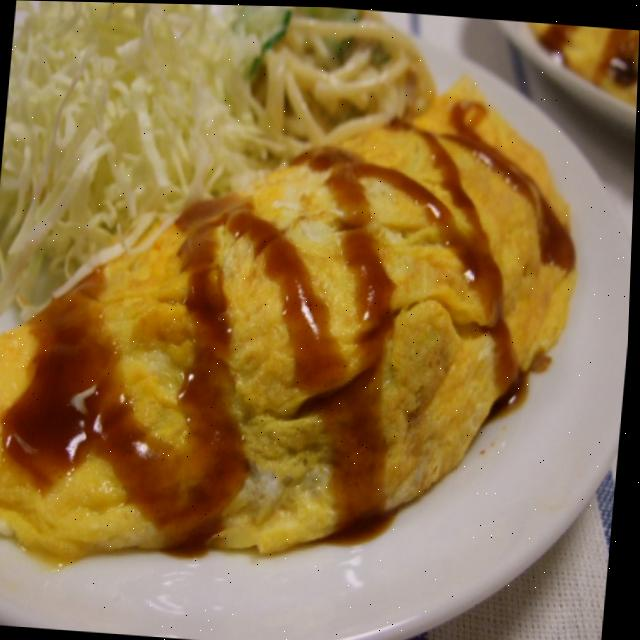鸡蛋料理: (0, 42, 598, 602)
